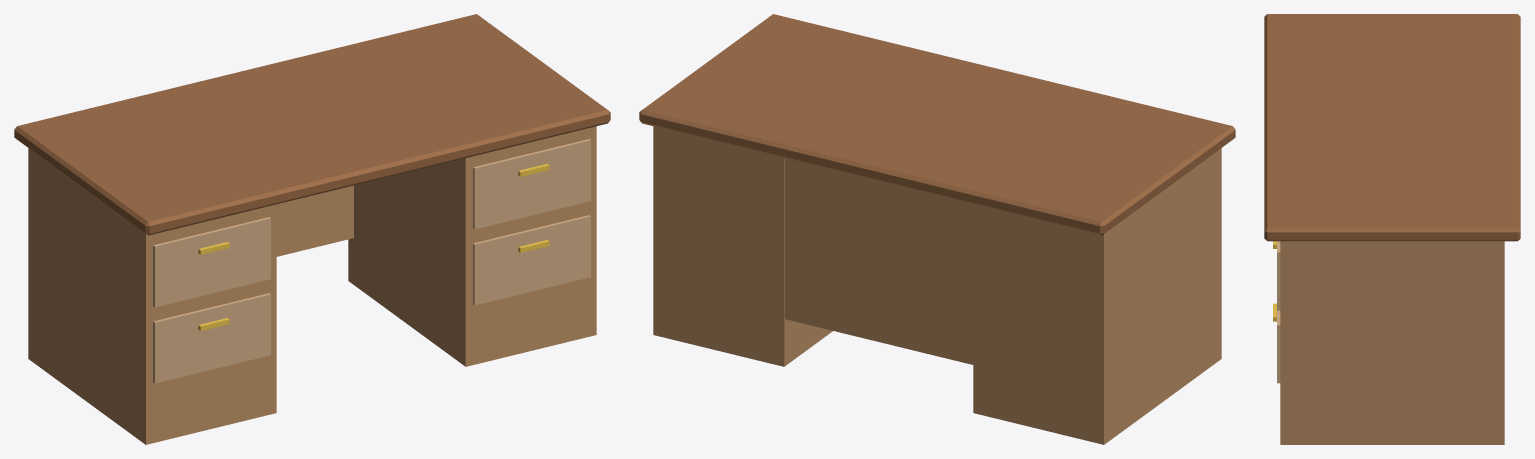
File: desk_manager.glb
3 renders of one model, left to right at view 1: azimuth 30°, elevation 25°; view 2: azimuth 150°, elevation 25°; view 3: azimuth 270°, elevation 25°, orthographic. The views are drawn at different scales.
Parts seen in each view (by area): view 1: desk_manager; view 2: desk_manager; view 3: desk_manager.
Boxes of the visible parts, box(x1,y1,x2,y2) form: desk_manager: box(14, 14, 610, 444); desk_manager: box(639, 14, 1235, 444); desk_manager: box(1264, 14, 1520, 444).
Size of the model in its own units: 1.6 by 0.7525 by 0.8.
1 material, 1 textured.
